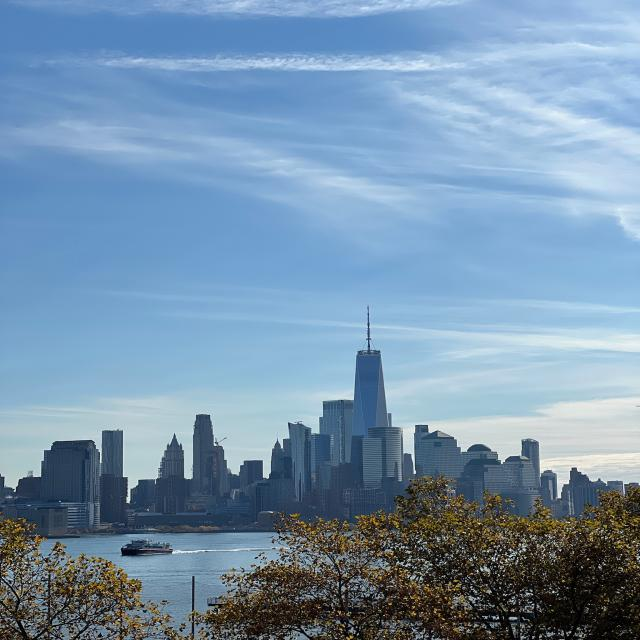WTC: (353, 305, 388, 428)
